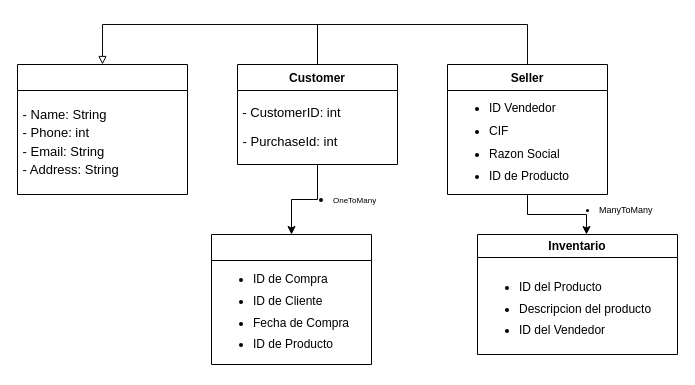
This 695x385 diagram has some shape labels left out. Here are the shapes that lost their labels. From the top down, the box of each, then its label:
(16, 64, 188, 194): User
(210, 234, 372, 364): Registro de Compra
